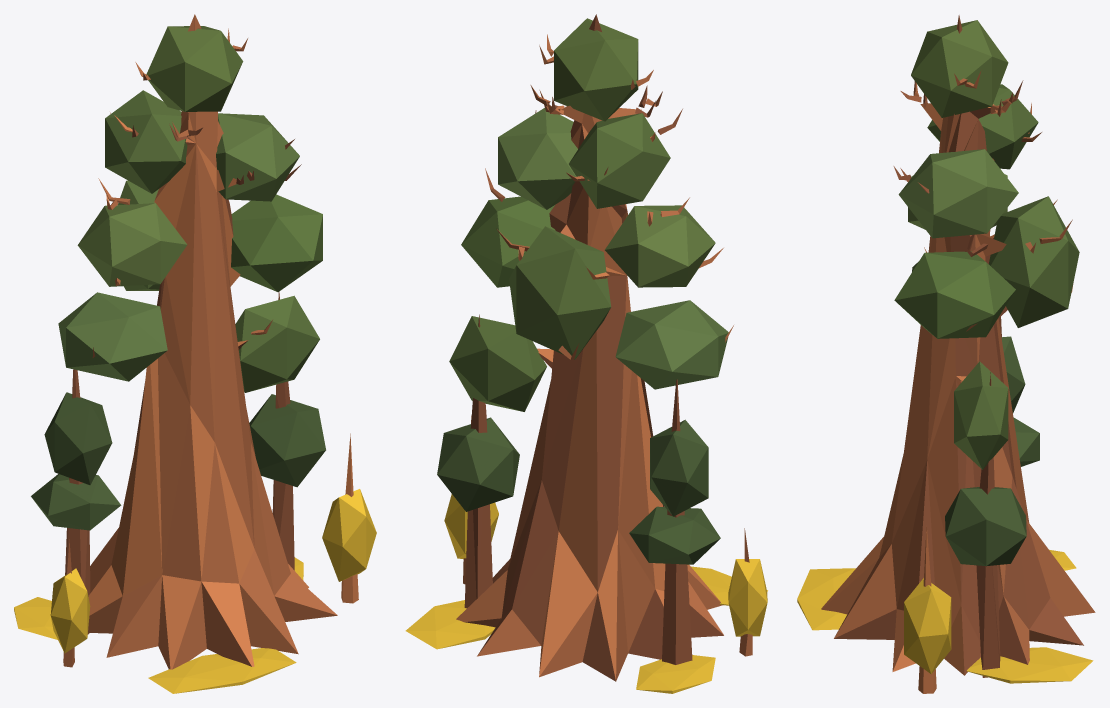
Rendered from giant_sequoia_bloom_far.glb.
3 views of the same model, side by side, from view 1: azimuth 30°, elevation 25°; view 2: azimuth 150°, elevation 25°; view 3: azimuth 270°, elevation 25° (orthographic).
Parts seen in each view (by area): view 1: giant_sequoia_bloom_far; view 2: giant_sequoia_bloom_far; view 3: giant_sequoia_bloom_far.
Part boxes in pixels (x1=…): giant_sequoia_bloom_far: x1=14, y1=14, x2=376, y2=693; giant_sequoia_bloom_far: x1=405, y1=14, x2=767, y2=693; giant_sequoia_bloom_far: x1=797, y1=15, x2=1095, y2=693.
Bounding box in the file's own units: 24.75 × 45.15 × 20.05.
